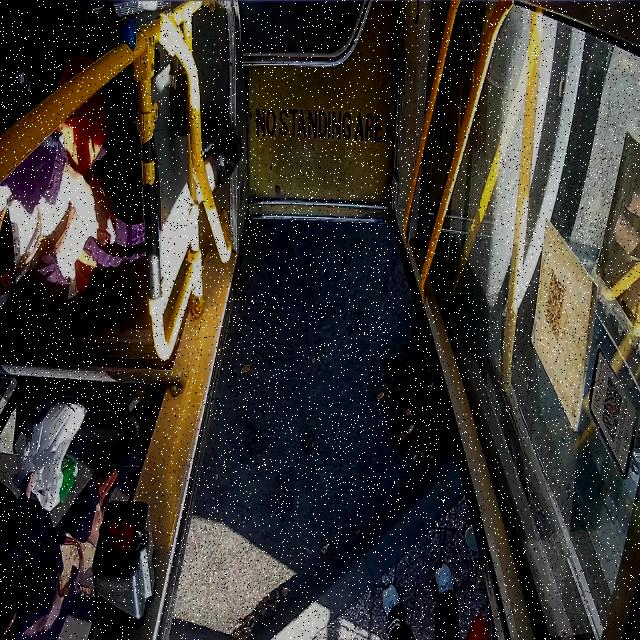open: (168, 211, 511, 640)
